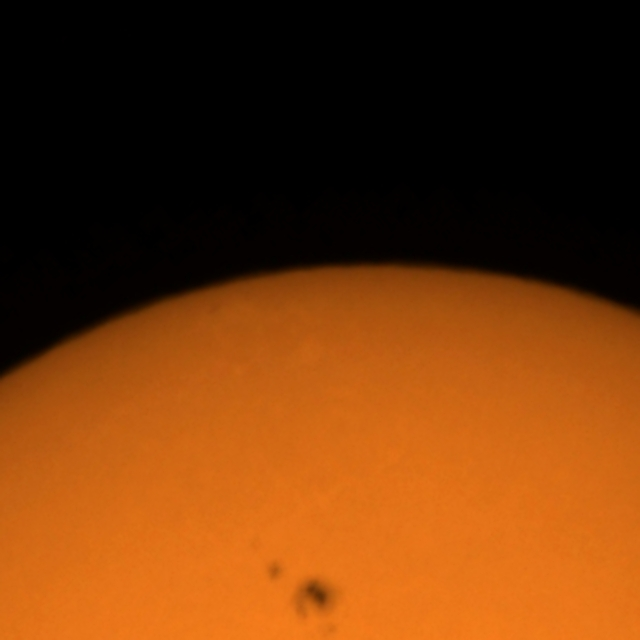sunspot: (263, 557, 327, 604), (287, 574, 330, 624), (263, 558, 286, 586)
